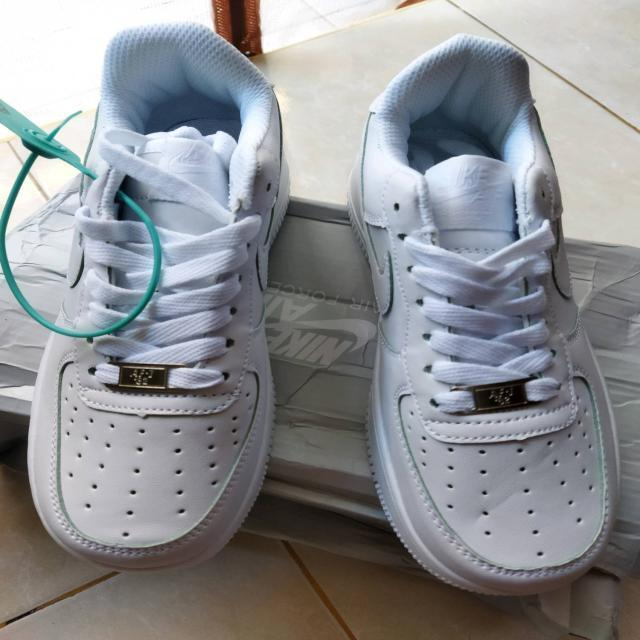nike fake air force: (333, 34, 640, 596), (23, 24, 290, 571)
